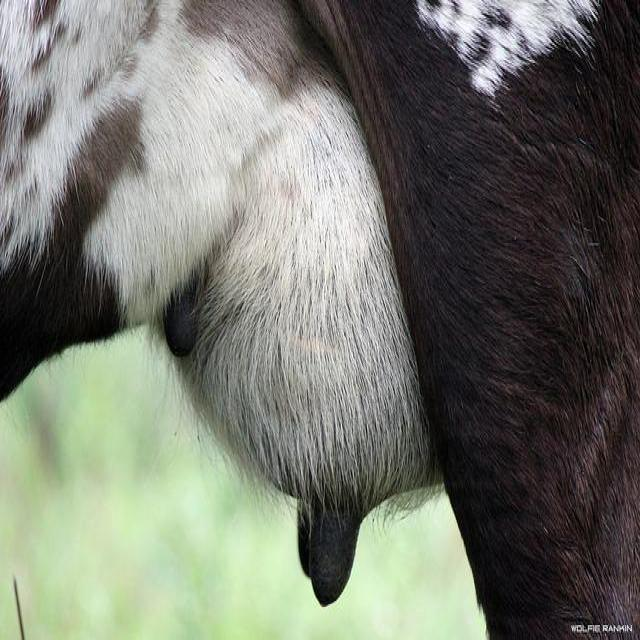Sheep: (1, 3, 639, 634)
